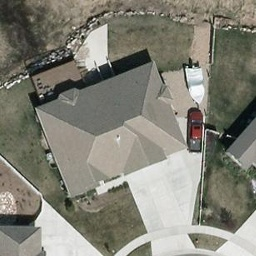car: (187, 109, 206, 153)
